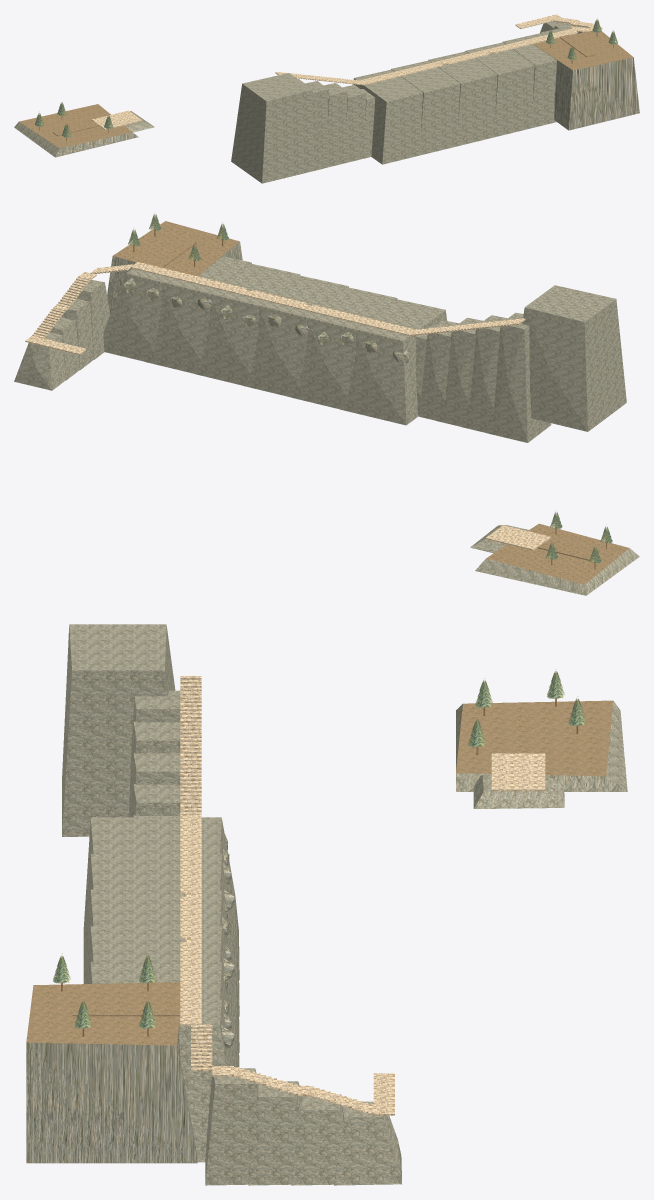
Rendered from retreat_global_connections.glb.
3 views of the same model, one above another, from view 1: azimuth 30°, elevation 25°; view 2: azimuth 150°, elevation 25°; view 3: azimuth 270°, elevation 25° (orthographic). The views are drawn at different scales.
Visible parts, largest first — view 1: VTT_Global_Temple_North_Rock, VTT_Forest_Ground_Observatorio, VTT_Global_Upper_Basalt_0, VTT_Global_Upper_Basalt_2, VTT_Global_Upper_Basalt_3, VTT_Global_Upper_Basalt_1, VTT_Forest_Ground_Pleamar, VTT_Global_Upper_Basalt_4, VTT_Global_Temple_Approach_2, VTT_Global_Temple_Approach_3, CANON_Global_upper_walkable-floor, VTT_Global_Temple_Approach_1 (+5 smaller); view 2: VTT_Global_Temple_North_Rock, VTT_Global_Upper_Basalt_0, VTT_Forest_Ground_Pleamar, VTT_Global_Upper_Basalt_3, VTT_Global_Upper_Basalt_2, VTT_Global_Upper_Basalt_1, VTT_Global_Upper_Basalt_4, VTT_Global_Temple_Approach_0, VTT_Forest_Ground_Observatorio, VTT_Global_Upper_Basalt_5, VTT_Global_Temple_Approach_1, VTT_Global_Temple_Approach_2 (+11 smaller); view 3: VTT_Forest_Ground_Observatorio, VTT_Global_Temple_North_Rock, VTT_Forest_Ground_Pleamar, VTT_Global_East_Cliff_0, VTT_Global_Upper_Basalt_1, VTT_Global_Upper_Basalt_0, VTT_Global_Upper_Basalt_2, VTT_Global_Upper_Basalt_3, CANON_Global_upper_walkable-floor, VTT_Global_East_Cliff_1, VTT_Global_East_Cliff_3, CANON_Global_upper_walkable-stair (+13 smaller).
Part boxes in pixels (left/top/right/bottom): VTT_Global_Temple_North_Rock: left=231, top=73, right=322, bottom=183; VTT_Forest_Ground_Observatorio: left=533, top=29, right=639, bottom=130; VTT_Global_Upper_Basalt_0: left=352, top=69, right=433, bottom=164; VTT_Global_Upper_Basalt_2: left=428, top=51, right=507, bottom=145; VTT_Global_Upper_Basalt_3: left=465, top=42, right=545, bottom=135; VTT_Global_Upper_Basalt_1: left=391, top=60, right=469, bottom=155; VTT_Forest_Ground_Pleamar: left=14, top=104, right=138, bottom=157; VTT_Global_Upper_Basalt_4: left=503, top=33, right=556, bottom=124; VTT_Global_Temple_Approach_2: left=324, top=83, right=357, bottom=164; VTT_Global_Temple_Approach_3: left=342, top=85, right=372, bottom=159; CANON_Global_upper_walkable-floor: left=359, top=28, right=578, bottom=85; VTT_Global_Temple_Approach_1: left=305, top=81, right=339, bottom=168; VTT_Global_Temple_North_Rock: left=522, top=285, right=626, bottom=431; VTT_Global_Upper_Basalt_0: left=339, top=299, right=447, bottom=425; VTT_Forest_Ground_Pleamar: left=475, top=523, right=639, bottom=595; VTT_Global_Upper_Basalt_3: left=194, top=263, right=300, bottom=385; VTT_Global_Upper_Basalt_2: left=242, top=275, right=348, bottom=397; VTT_Global_Upper_Basalt_1: left=291, top=287, right=397, bottom=408; VTT_Global_Upper_Basalt_4: left=145, top=256, right=251, bottom=373; VTT_Global_Temple_Approach_0: left=485, top=312, right=551, bottom=442; VTT_Forest_Ground_Observatorio: left=107, top=221, right=242, bottom=313; VTT_Global_Upper_Basalt_5: left=103, top=268, right=167, bottom=361; VTT_Global_Temple_Approach_1: left=461, top=315, right=507, bottom=432; VTT_Global_Temple_Approach_2: left=436, top=317, right=483, bottom=426; VTT_Forest_Ground_Observatorio: left=26, top=982, right=197, bottom=1163; VTT_Global_Temple_North_Rock: left=62, top=624, right=175, bottom=836; VTT_Forest_Ground_Pleamar: left=456, top=700, right=627, bottom=791; VTT_Global_East_Cliff_0: left=205, top=1068, right=265, bottom=1185; VTT_Global_Upper_Basalt_1: left=83, top=853, right=239, bottom=1016; VTT_Global_Upper_Basalt_0: left=83, top=817, right=239, bottom=980; VTT_Global_Upper_Basalt_2: left=85, top=889, right=239, bottom=1052; VTT_Global_Upper_Basalt_3: left=87, top=926, right=239, bottom=1066; CANON_Global_upper_walkable-floor: left=180, top=815, right=201, bottom=1025; VTT_Global_East_Cliff_1: left=248, top=1081, right=309, bottom=1185; VTT_Global_East_Cliff_3: left=334, top=1101, right=401, bottom=1185; CANON_Global_upper_walkable-stair: left=180, top=676, right=212, bottom=1071.
Bounding box in the file's own units: 160 × 30.5 × 84.
Materials: 5 (5 with a texture image).
